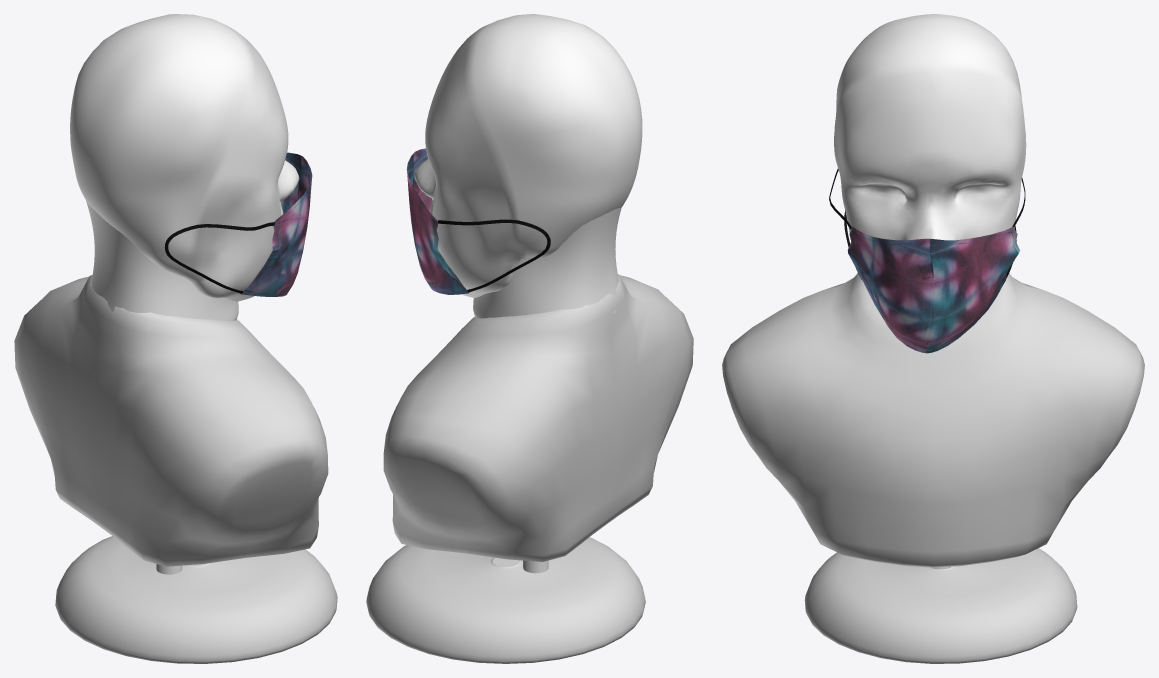
Rendered from mask_dcbfa579.glb.
The picture shows the model from 3 angles, left to right: view 1: azimuth 30°, elevation 25°; view 2: azimuth 150°, elevation 25°; view 3: azimuth 270°, elevation 25°; orthographic projection. The views are drawn at different scales.
Parts seen in each view (by area): view 1: Kaftan Lengan Pendek (EMP(KLTN) 5D).025, Head.001; view 2: Kaftan Lengan Pendek (EMP(KLTN) 5D).025, Head.001; view 3: Kaftan Lengan Pendek (EMP(KLTN) 5D).025, Head.001.
Part boxes in pixels (left/top/right/bottom): Kaftan Lengan Pendek (EMP(KLTN) 5D).025: left=14, top=14, right=337, bottom=663; Head.001: left=164, top=152, right=312, bottom=296; Kaftan Lengan Pendek (EMP(KLTN) 5D).025: left=366, top=14, right=693, bottom=663; Head.001: left=406, top=148, right=550, bottom=294; Kaftan Lengan Pendek (EMP(KLTN) 5D).025: left=722, top=14, right=1144, bottom=663; Head.001: left=829, top=169, right=1025, bottom=353.
Bounding box in the file's own units: 33.09 × 77.85 × 51.33.
4 materials, 1 textured.
